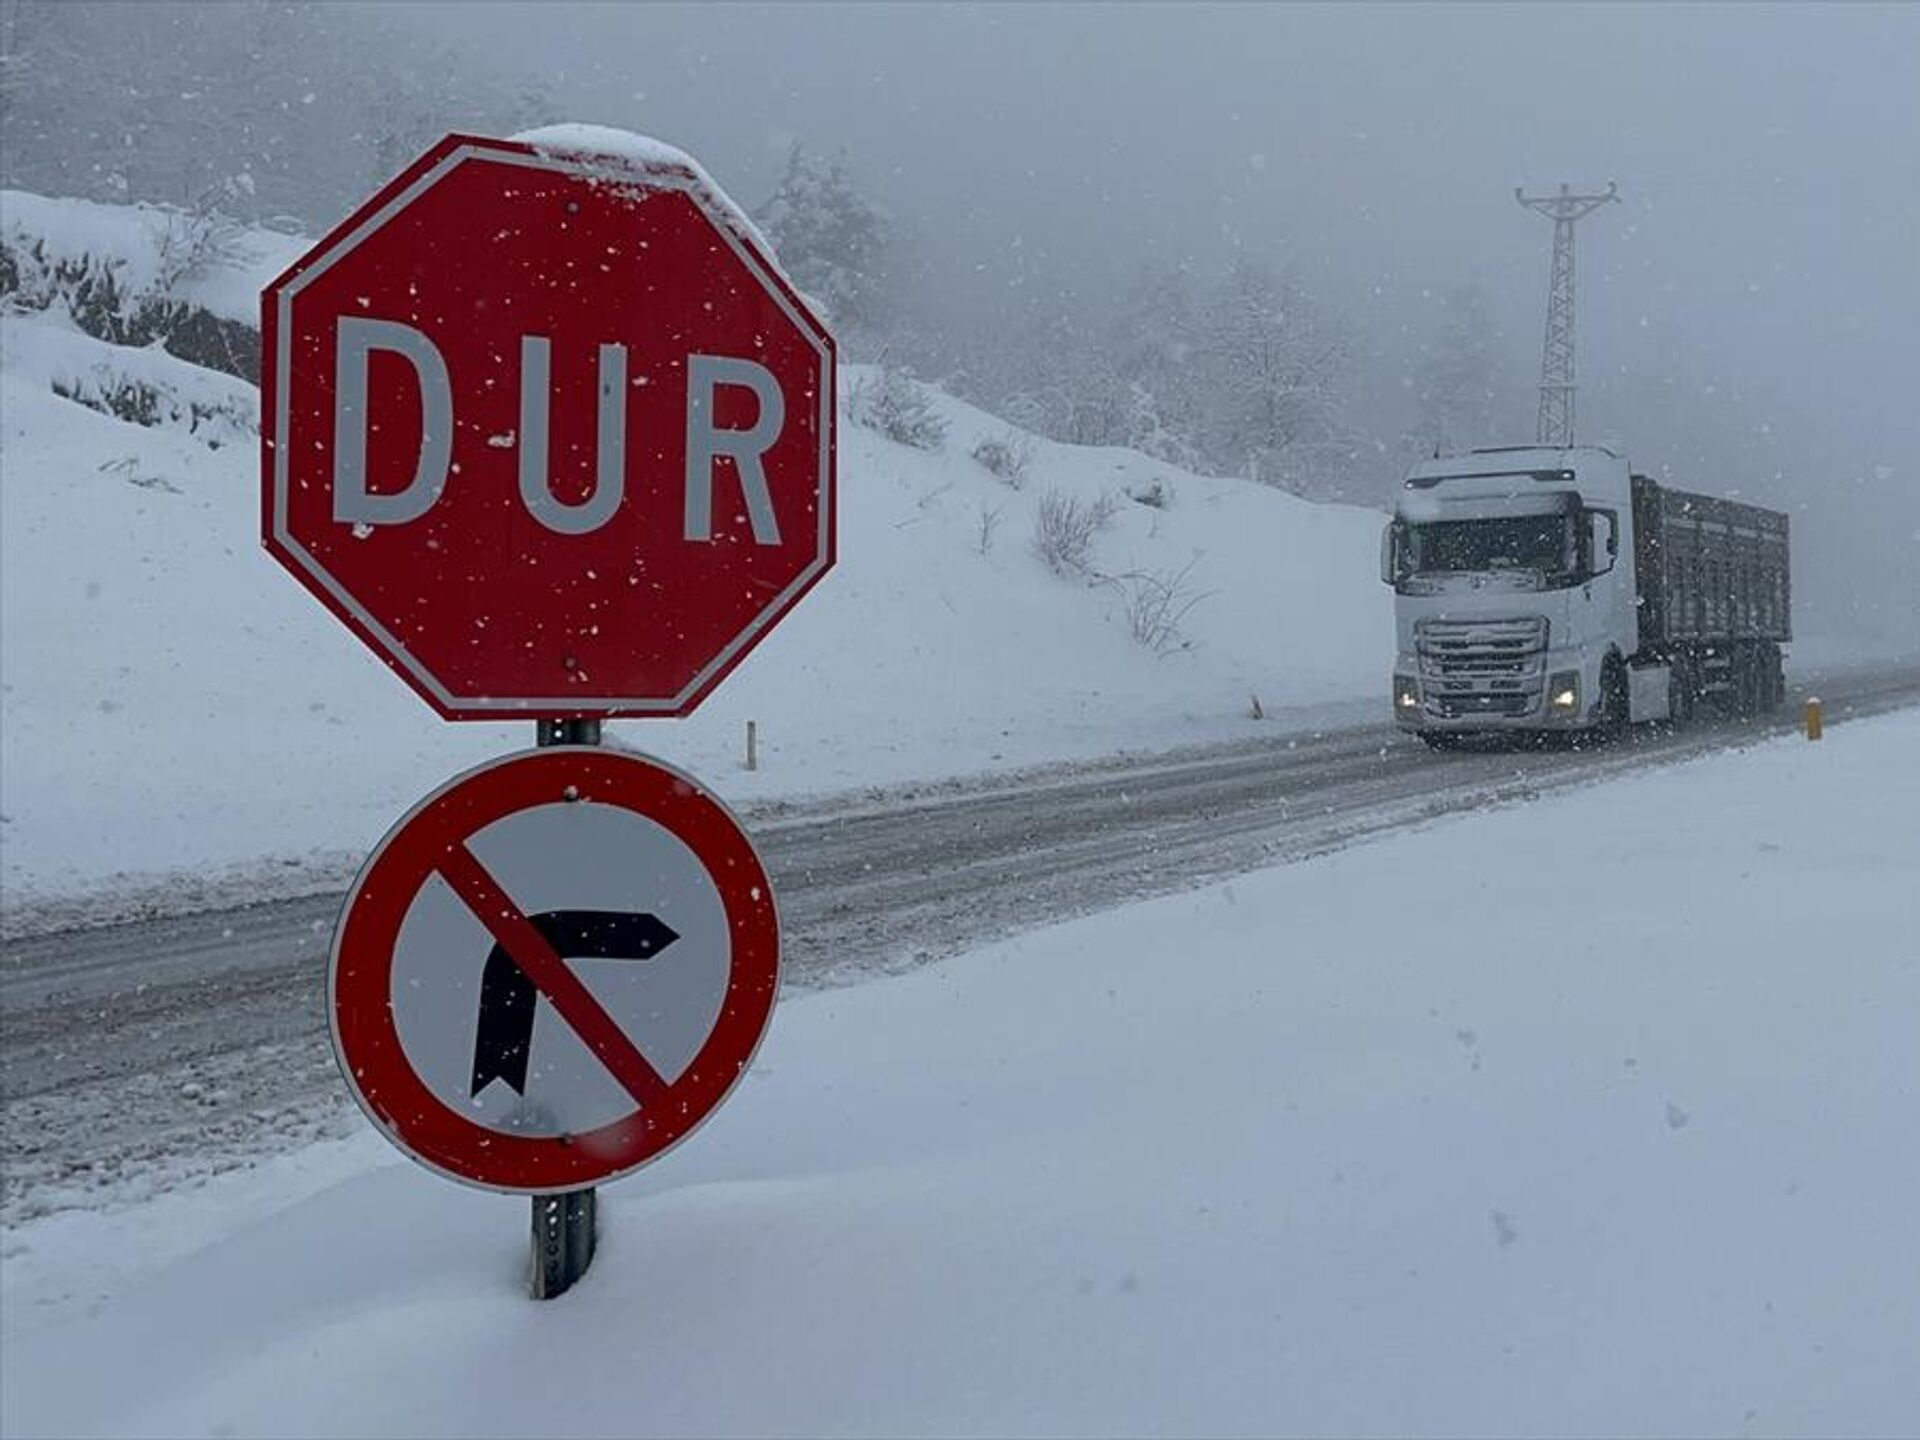dur: (248, 129, 847, 709)
kamyon: (1339, 424, 1873, 759)
saga_girilmez: (319, 743, 816, 1224)
